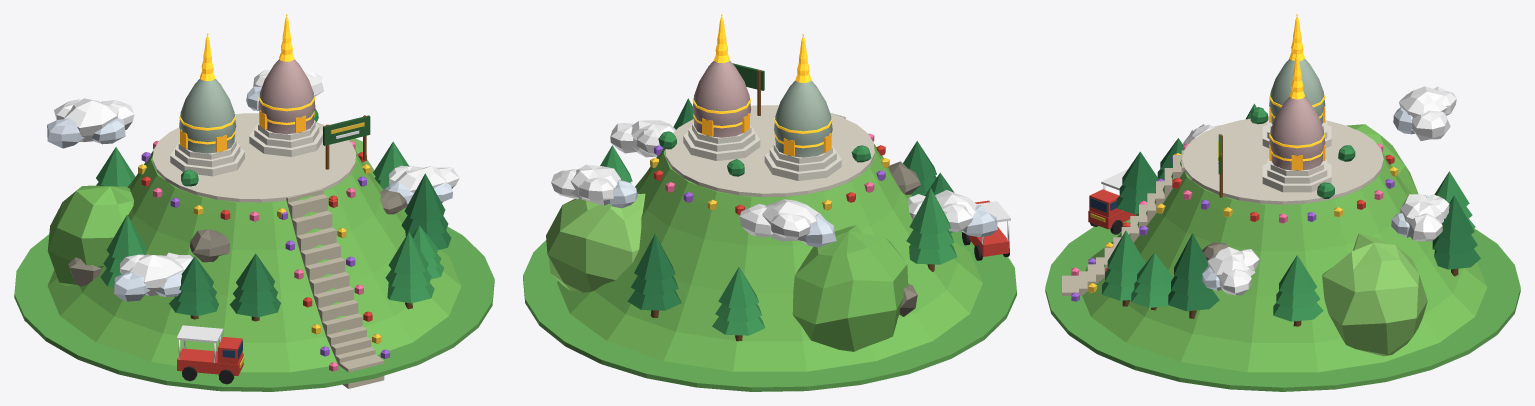
Rendered from loc_inthanon.glb.
3 renders of one model, left to right at view 1: azimuth 30°, elevation 25°; view 2: azimuth 150°, elevation 25°; view 3: azimuth 270°, elevation 25°, orthographic. The views are drawn at different scales.
Parts seen in each view (by area): view 1: Body_Grass, Body_GrassLow, Body_Stone, Body_Step, Body_Pine2, Body_Pine, Body_Cloud, Body_CloudShade, Body_Trim, Body_PagodaB, Body_PagodaA, Body_Rock (+8 smaller); view 2: Body_Grass, Body_GrassLow, Body_Cloud, Body_Stone, Body_GrassHigh, Body_Pine2, Body_Pine, Body_Trim, Body_PagodaA, Body_PagodaB, Body_CloudShade, Body_Gold (+5 smaller); view 3: Body_Grass, Body_GrassLow, Body_GrassHigh, Body_Stone, Body_Pine2, Body_Pine, Body_Cloud, Body_PagodaB, Body_Step, Body_Trim, Body_PagodaA, Body_Red (+5 smaller).
Part boxes in pixels (x1,y1,x2,y2): Body_Grass: (47,150,461,372); Body_GrassLow: (14,208,494,391); Body_Stone: (152,113,356,202); Body_Step: (286,188,384,388); Body_Pine2: (96,108,444,303); Body_Pine: (169,173,451,317); Body_Cloud: (54,69,459,296); Body_CloudShade: (47,86,452,301); Body_Trim: (170,120,322,176); Body_PagodaB: (258,59,315,134); Body_PagodaA: (179,78,236,153); Body_Rock: (68,189,407,286); Body_Grass: (557,144,982,371); Body_GrassLow: (523,231,1016,391); Body_Cloud: (551,120,977,241); Body_Stone: (665,105,874,197); Body_GrassHigh: (546,193,645,292); Body_Pine2: (600,131,957,335); Body_Pine: (627,98,954,310); Body_Trim: (683,123,841,180); Body_PagodaA: (774,80,832,157); Body_PagodaB: (692,60,751,137); Body_CloudShade: (606,180,997,247); Body_Gold: (692,14,832,148); Body_Grass: (1082,124,1487,372); Body_GrassLow: (1045,219,1520,391); Body_GrassHigh: (1322,233,1427,356); Body_Stone: (1182,117,1383,204); Body_Pine2: (1102,103,1475,321); Body_Pine: (1116,138,1480,311); Body_Cloud: (1183,86,1456,295); Body_PagodaB: (1269,97,1325,170); Body_Step: (1062,150,1184,295); Body_Trim: (1262,121,1331,192); Body_PagodaA: (1269,58,1325,124); Body_Red: (1088,154,1394,271).
Size of the model in its own units: 10 by 6.43 by 10.
